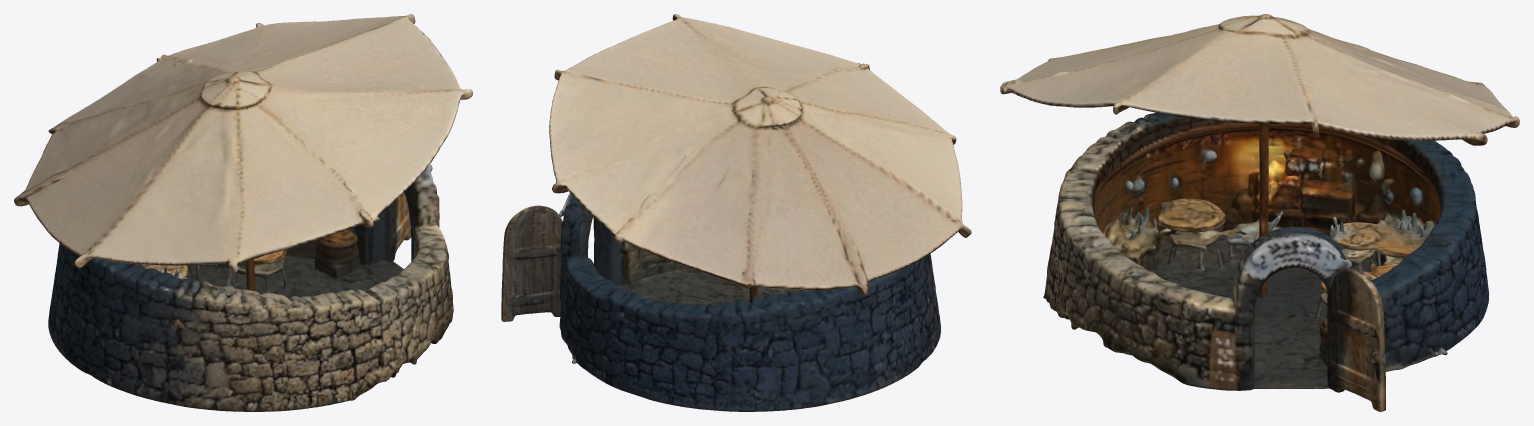
File: stone+circular+cafe+3d+model.glb
3 views of the same model, side by side, from view 1: azimuth 30°, elevation 25°; view 2: azimuth 150°, elevation 25°; view 3: azimuth 270°, elevation 25° (orthographic). The views are drawn at different scales.
Parts seen in each view (by area): view 1: tripo_node_b79c213b-0c19-4114-82b0-2dadc081593d; view 2: tripo_node_b79c213b-0c19-4114-82b0-2dadc081593d; view 3: tripo_node_b79c213b-0c19-4114-82b0-2dadc081593d.
Boxes of the visible parts, x1,y1,x2,y2 form: tripo_node_b79c213b-0c19-4114-82b0-2dadc081593d: (14, 14, 472, 411); tripo_node_b79c213b-0c19-4114-82b0-2dadc081593d: (501, 14, 971, 411); tripo_node_b79c213b-0c19-4114-82b0-2dadc081593d: (1000, 14, 1519, 411).
Bounding box in the file's own units: 1 × 0.74 × 0.9883.
1 material, 1 textured.
